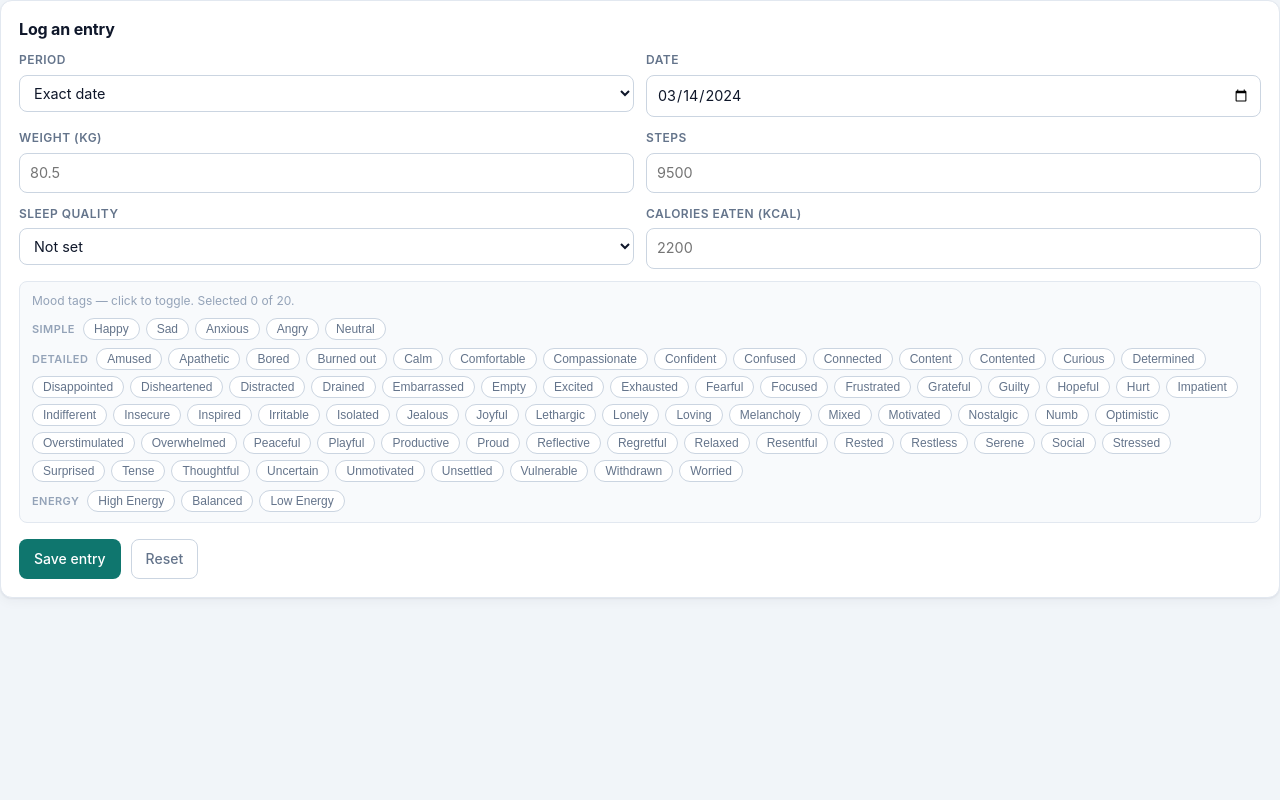
Test case: EntryForm › clears the fields after a successful save but keeps the date
Type "9000" into the number field labelled "Steps" at [954, 173], box [646,152,1261,193]
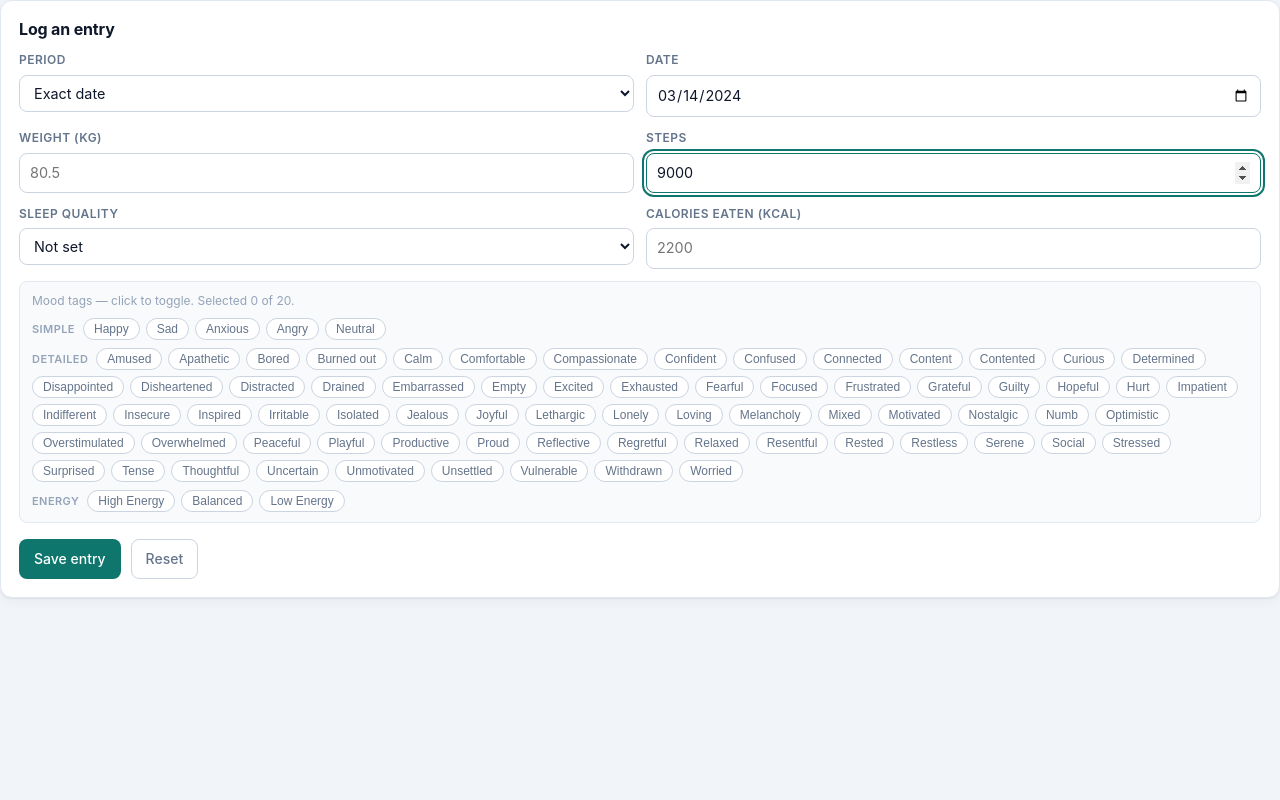
Click the button "Save entry" at [70, 559], box [19,539,121,579]
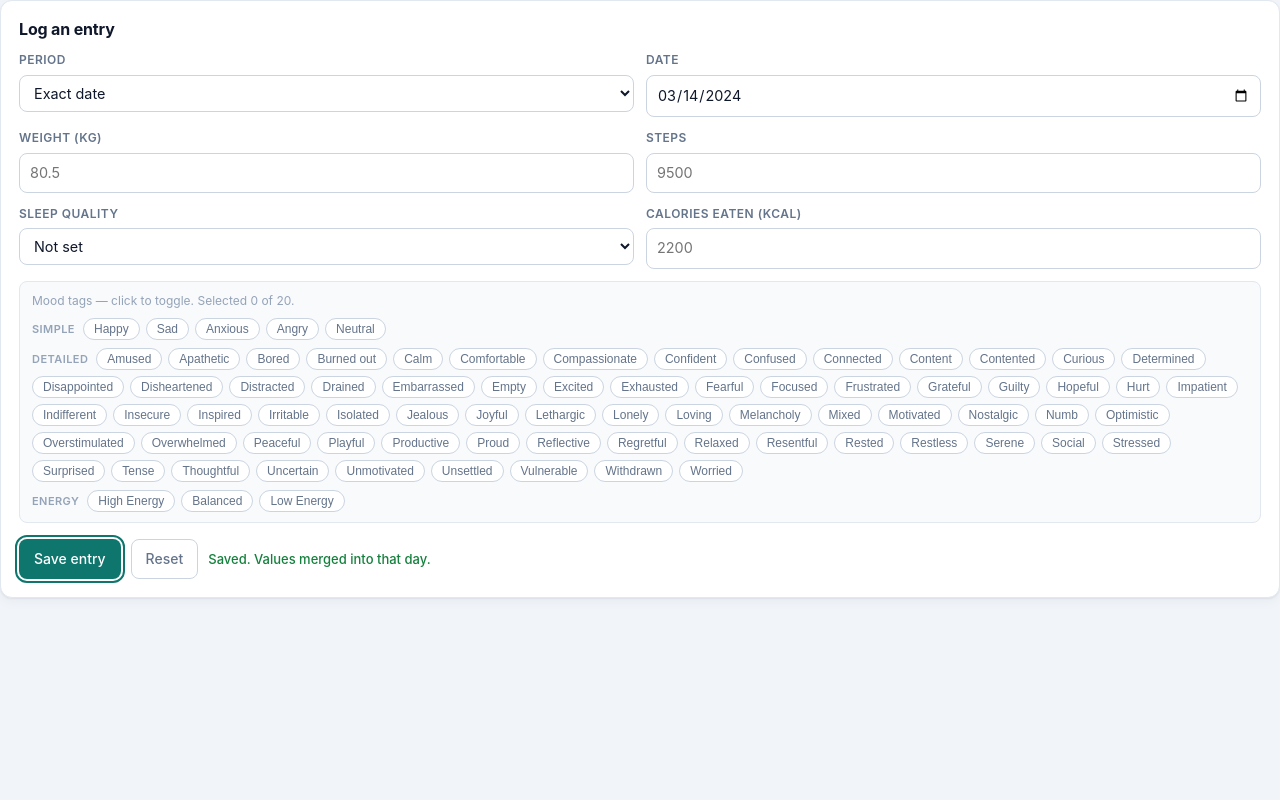
Expected: the date field labelled "Date" holds "2024-03-14", [646,75,1261,117]
Expected: the number field labelled "Steps" is not empty, [646,152,1261,193]
Expected: the text "Saved. Values merged into that day." is shown, [208,549,431,569]
